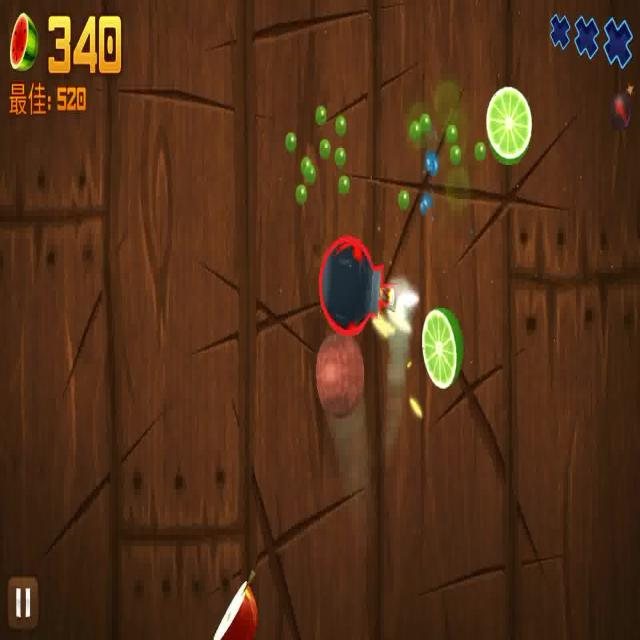bomb: (318, 230, 407, 336)
fruit: (312, 331, 368, 420), (418, 306, 467, 391), (485, 86, 531, 161), (212, 569, 260, 640)
